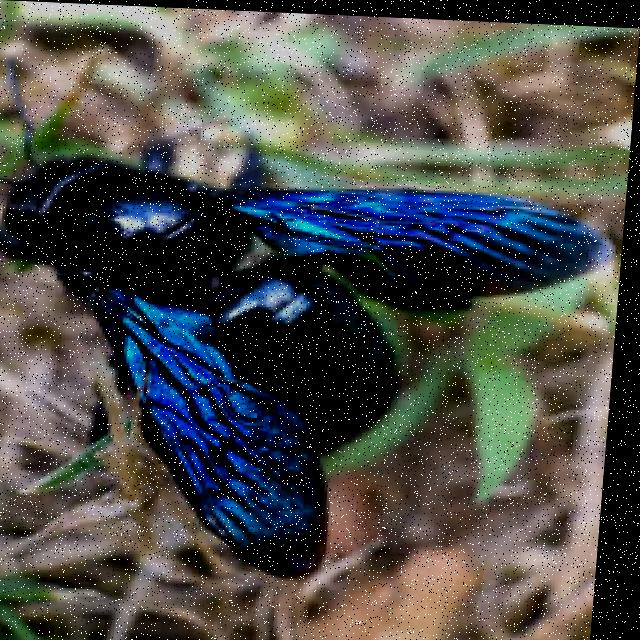Xylocopa: (0, 85, 632, 583)
